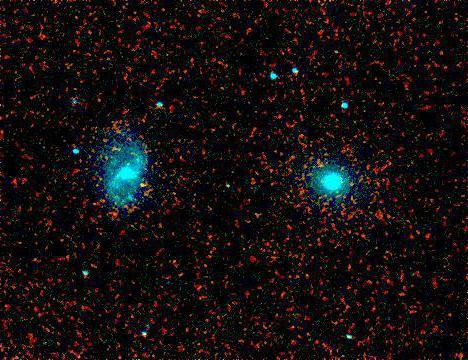star: (130, 169, 160, 199)
